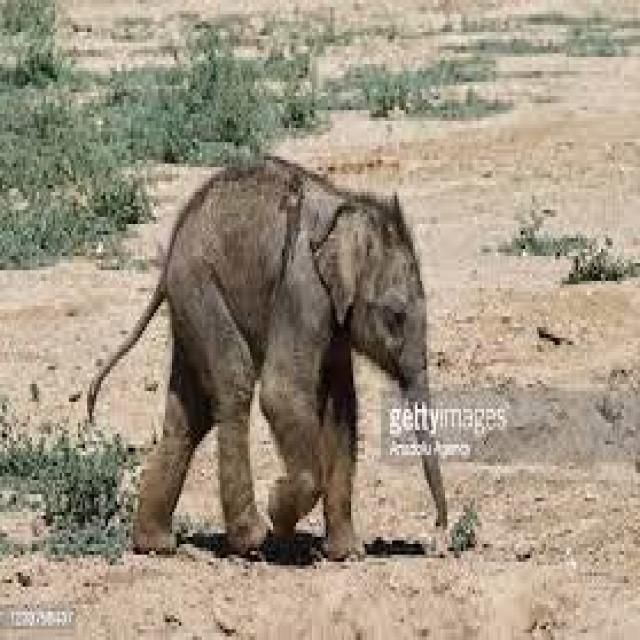Elephant: (124, 156, 454, 564)
